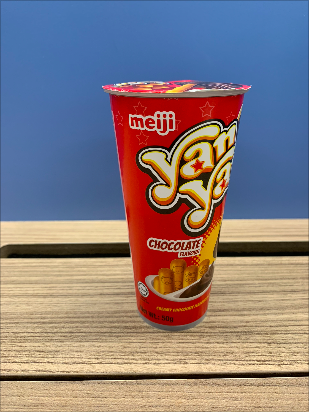Cookies_1-99g: (127, 91, 214, 309)
